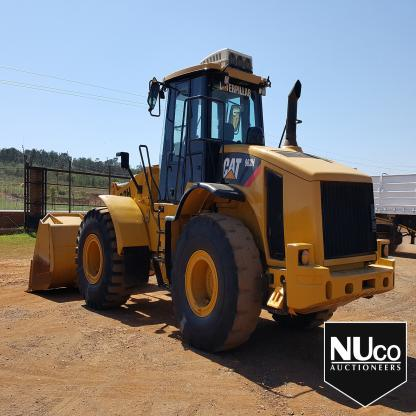bull_dozer/loader/grader: (21, 46, 395, 349)
